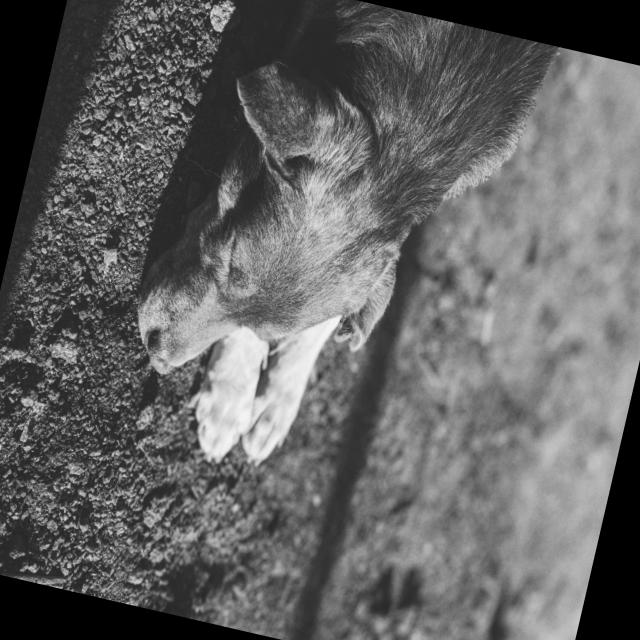laying down: (95, 0, 570, 534)
